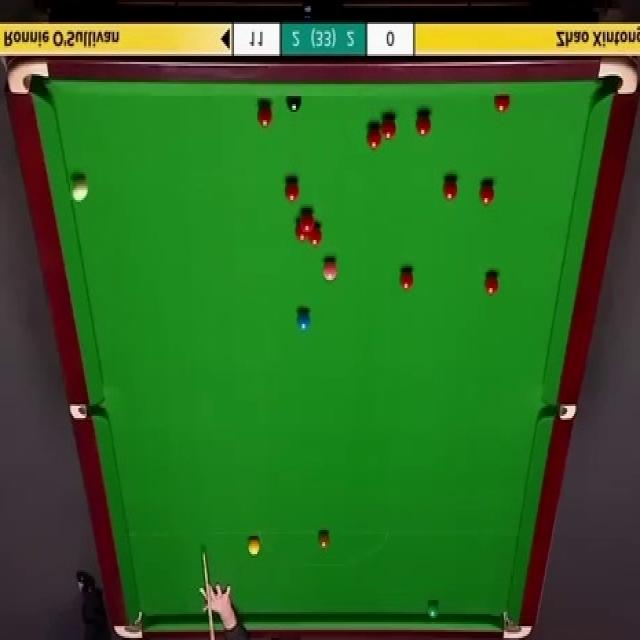black-ball: (286, 94, 304, 116)
blue-ball: (295, 307, 311, 332)
brown-ball: (316, 529, 330, 552)
green-ball: (425, 600, 440, 619)
pink-ball: (323, 258, 338, 286)
red-ball: (380, 112, 398, 143), (398, 265, 416, 293), (414, 111, 431, 137), (478, 181, 495, 207), (366, 125, 382, 151), (286, 179, 302, 204), (256, 103, 272, 128), (442, 177, 458, 201), (484, 272, 499, 297), (308, 222, 322, 246), (494, 94, 510, 114), (301, 210, 314, 230), (295, 222, 308, 242)
white-ball: (70, 177, 89, 203)
yellow-ball: (246, 537, 260, 557)
